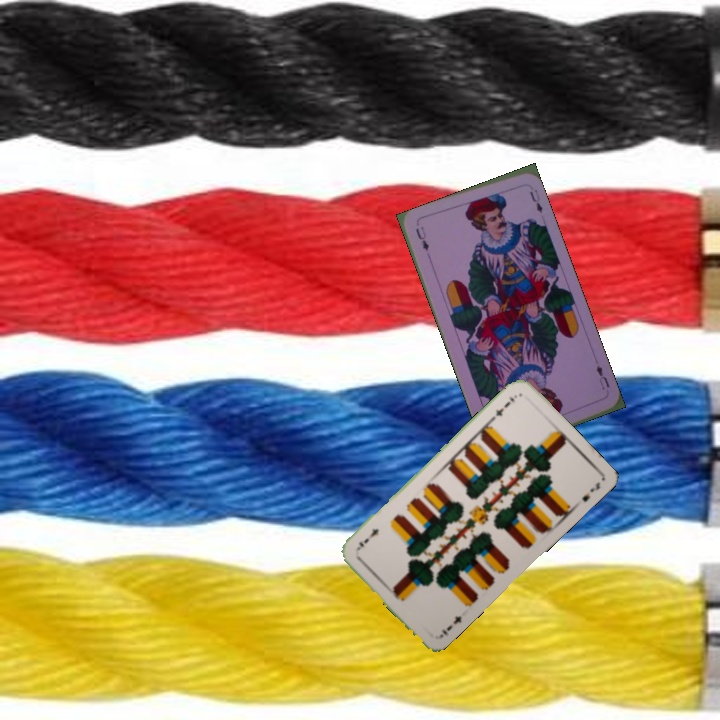E7: (488, 390, 520, 422), (437, 612, 464, 639)
EU: (592, 361, 612, 392), (412, 222, 431, 254)
